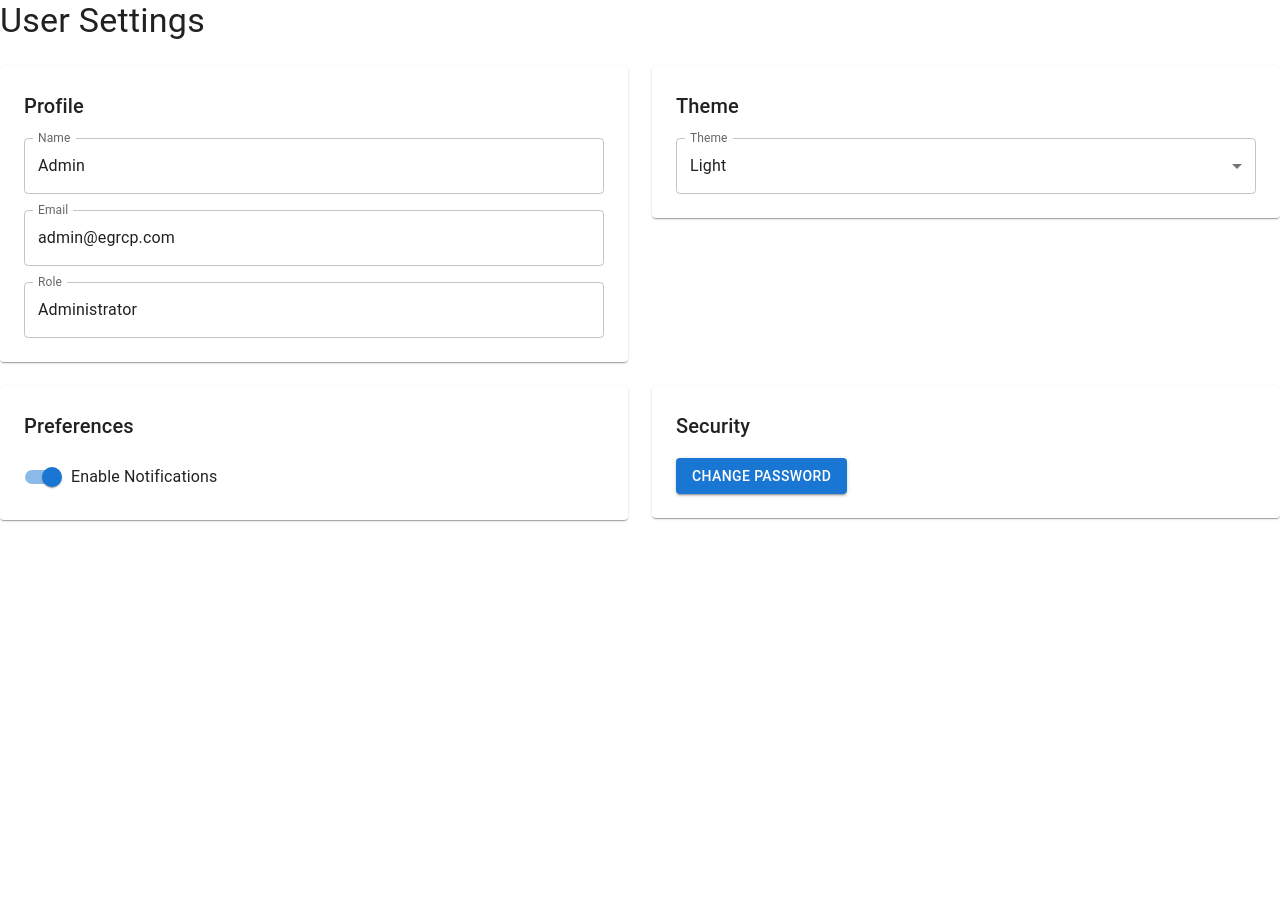
Test: Settings Advanced › opens password dialog
This screenshot has width=1280, height=900.
Click the button "Change Password" at {"x": 762, "y": 476}, box x1=676 y1=458 x2=847 y2=494
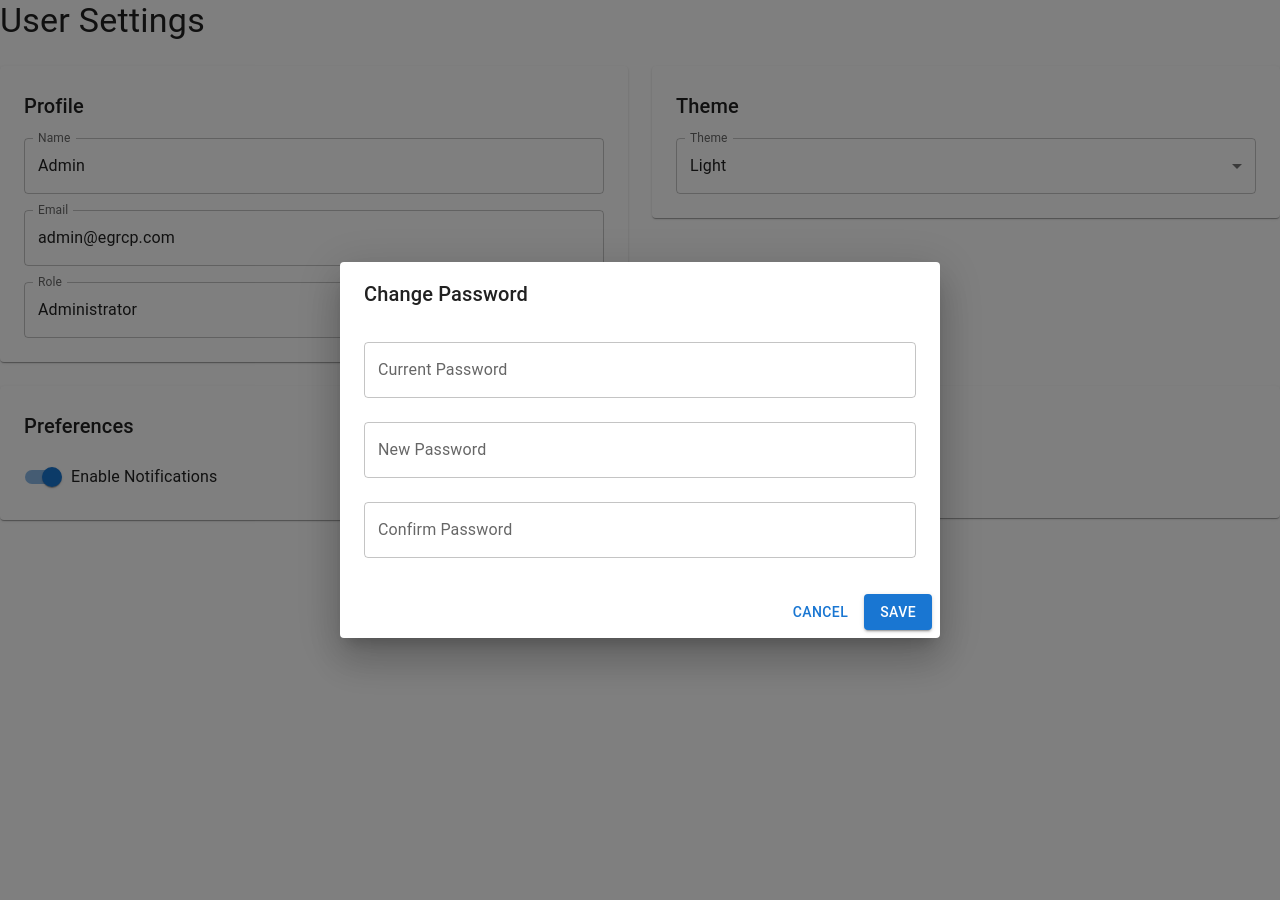
expect the heading "Change Password" is shown: met, box x1=364 y1=282 x2=528 y2=306
